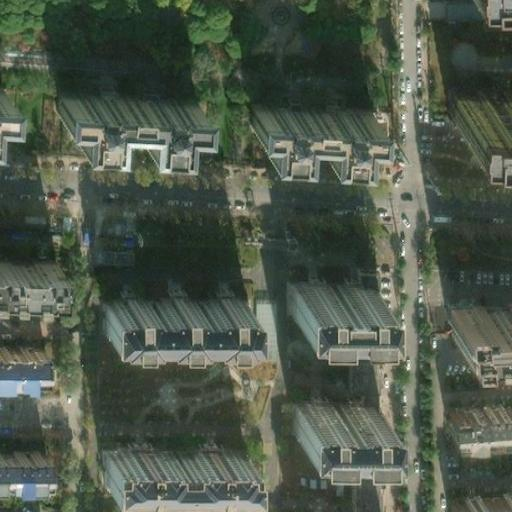building: (46, 91, 185, 144), (89, 296, 233, 338), (236, 104, 360, 150), (90, 449, 231, 487), (283, 396, 370, 438), (283, 280, 370, 322), (448, 303, 512, 347), (439, 399, 512, 434), (451, 98, 512, 135), (443, 485, 512, 512), (0, 439, 43, 479)
